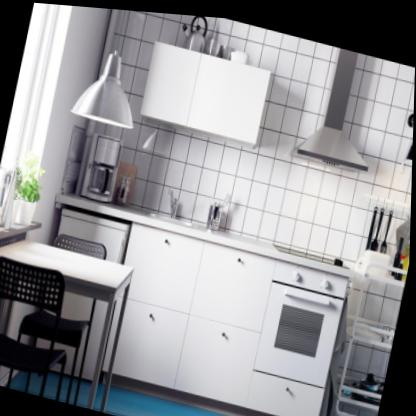Chair: (0, 251, 88, 401)
Table: (0, 226, 138, 412)
